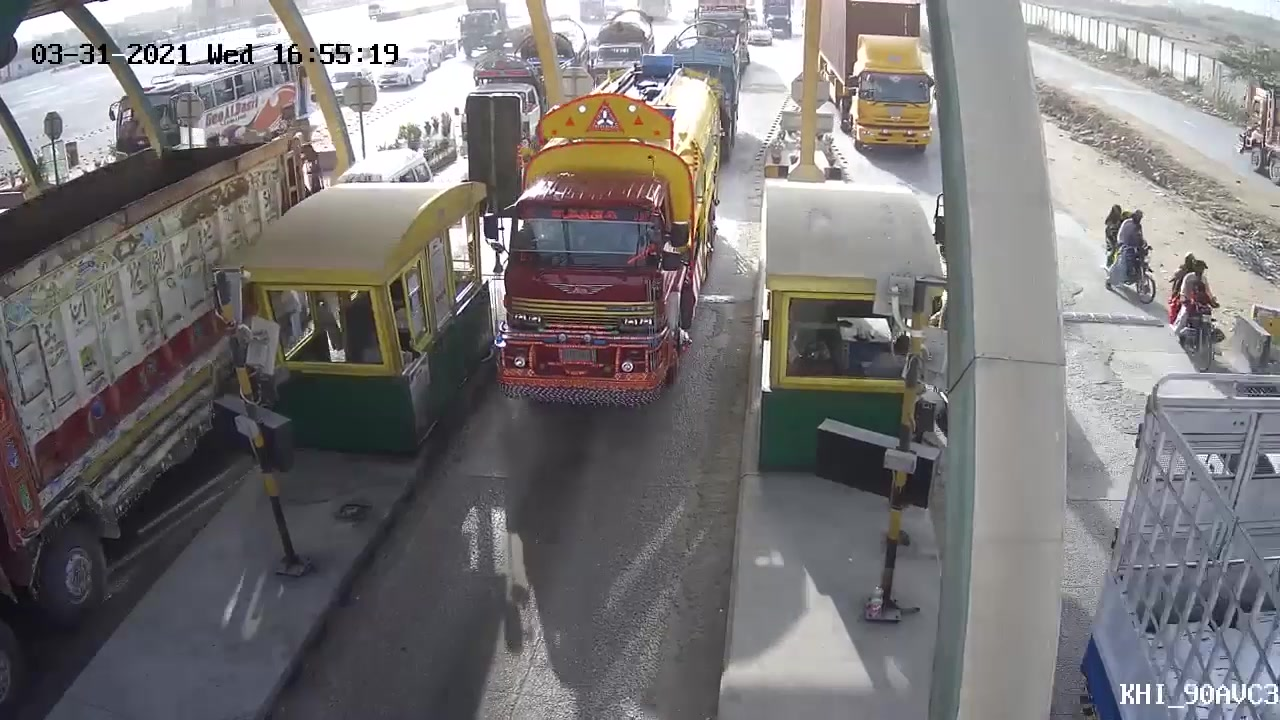F5: (496, 79, 717, 434)
